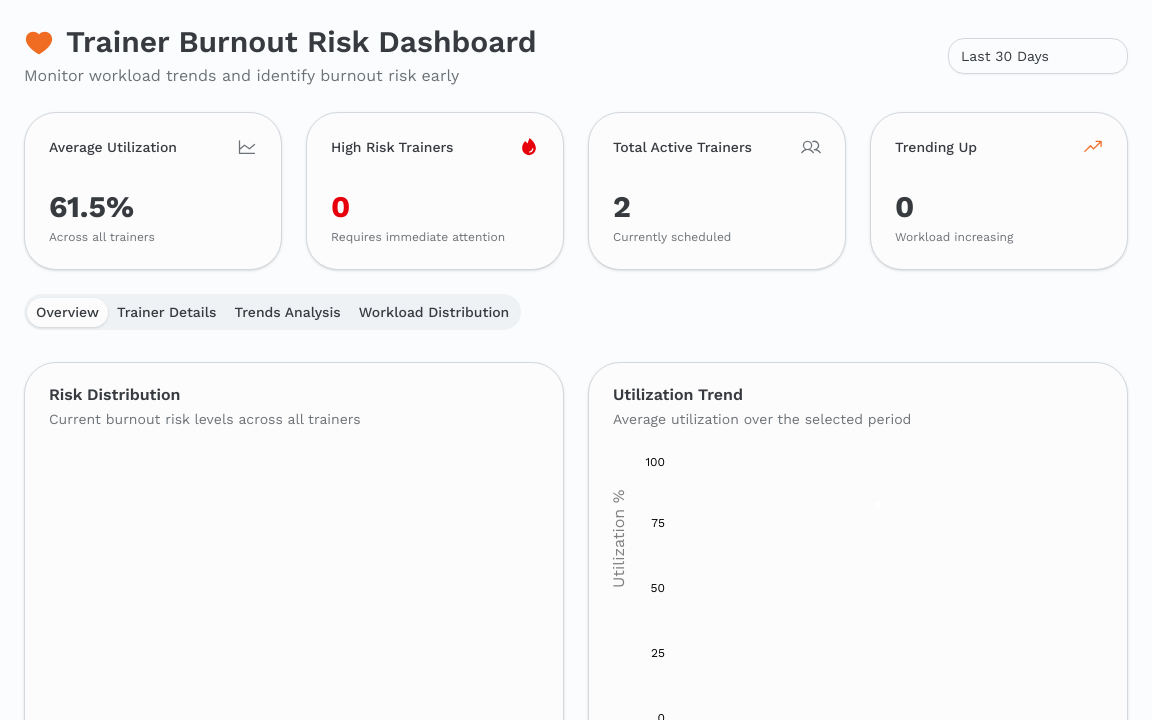
BurnoutDashboard › shows decreasing trend state and empty factors in trainer details
Click the tab "Trainer Details": [167, 312] box x1=108 y1=298 x2=226 y2=326
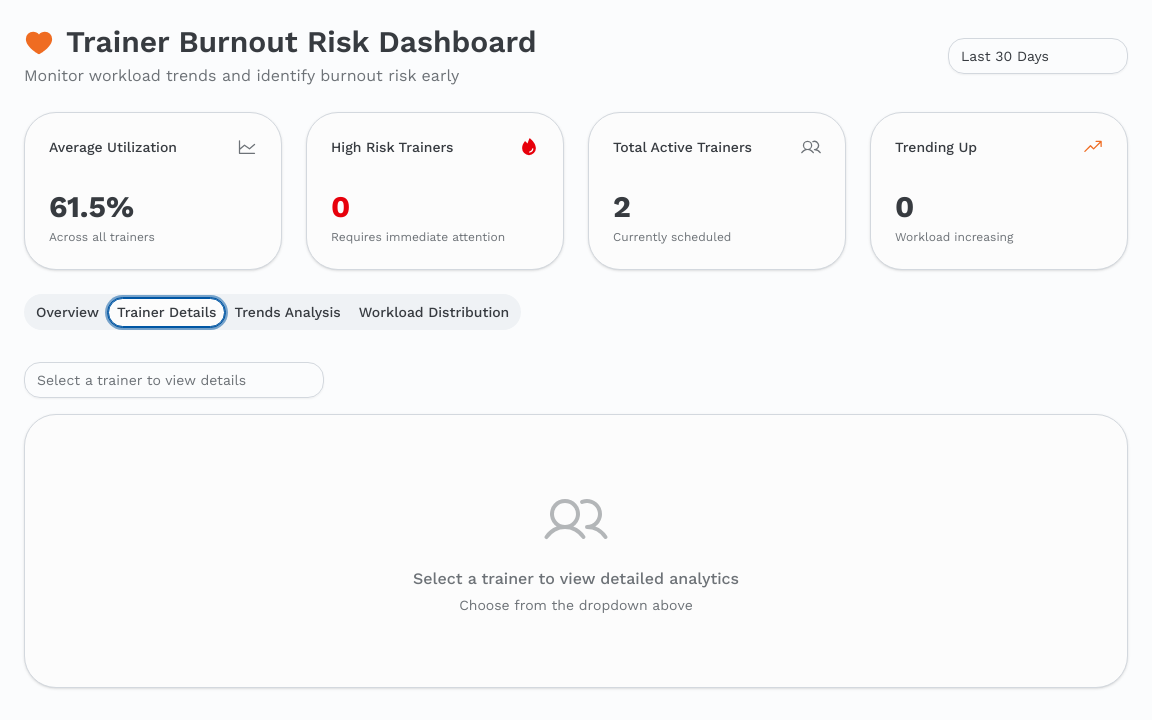
Click the dropdown named "select trainer": [174, 380] box x1=24 y1=362 x2=324 y2=398
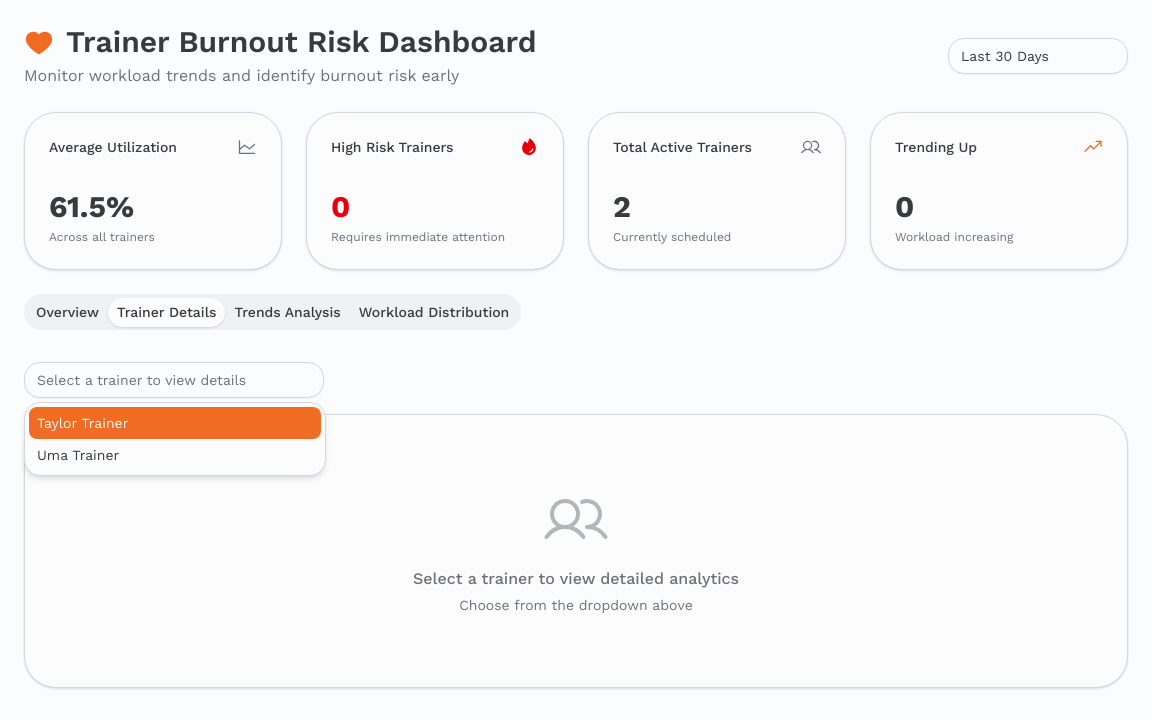
Click the option "Taylor Trainer": [83, 423] box x1=29 y1=407 x2=321 y2=439
(page scrolled)
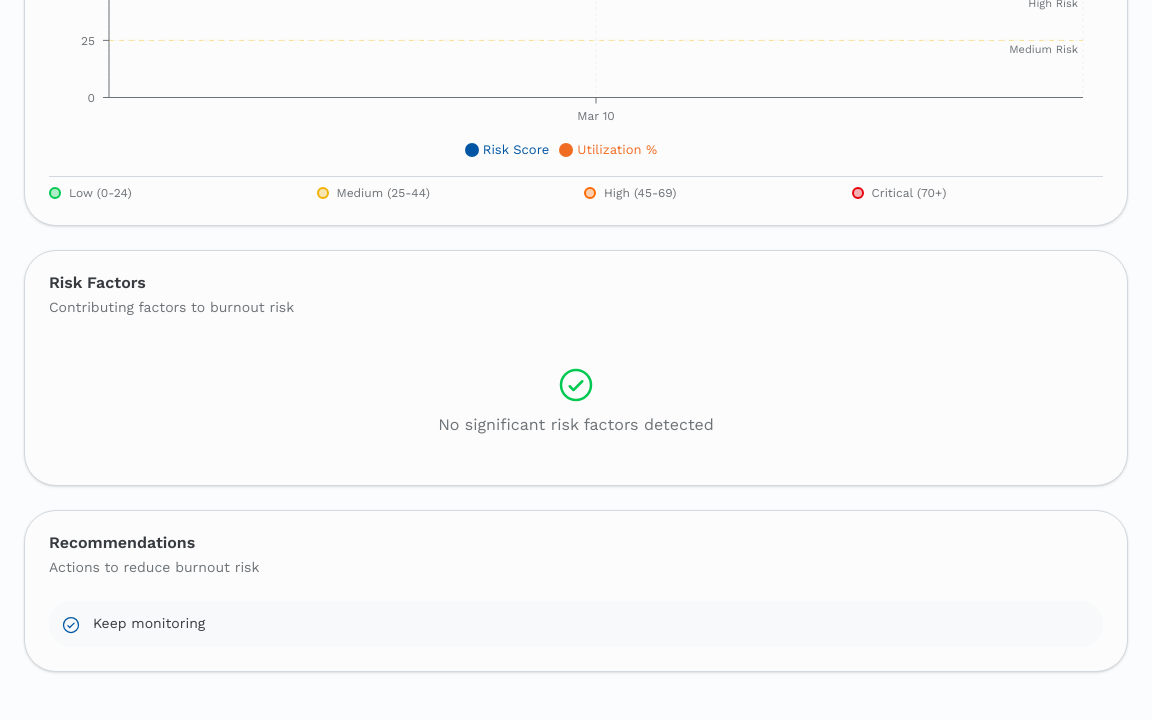
expect the text "No significant risk factors detected" is shown: met, box x1=438 y1=415 x2=714 y2=434
